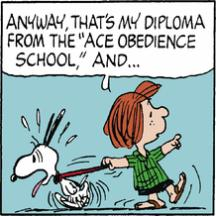snoopy: (9, 108, 91, 210)
